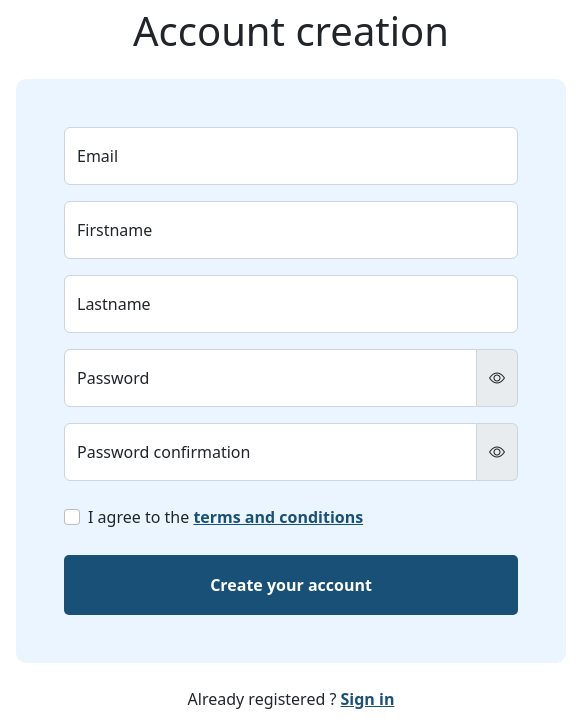
Scenario: SignUp › form › after form submission › renders a loader awaiting response
Type "vianneyaccart@gmail.com" into the field labelled "Email" at (291, 156), box [64, 127, 518, 185]
Type "Vianney" into the field labelled "Firstname" at (291, 230), box [64, 201, 518, 259]
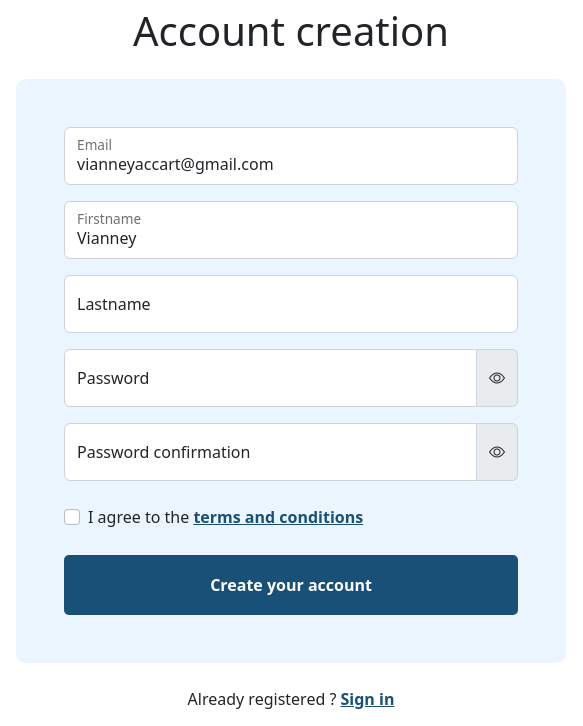
Type "Accart" into the field labelled "Lastname" at (291, 304), box [64, 275, 518, 333]
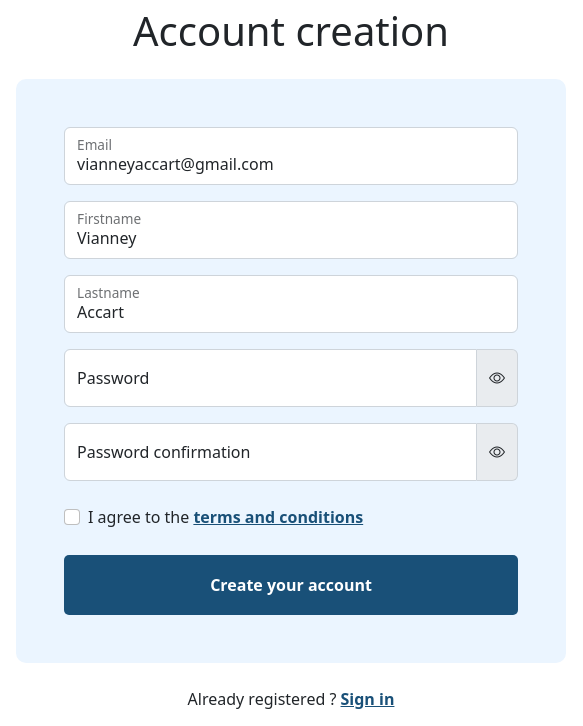
Type "Vianney69" into the password field with test id "password" at (270, 378), box [64, 349, 477, 407]
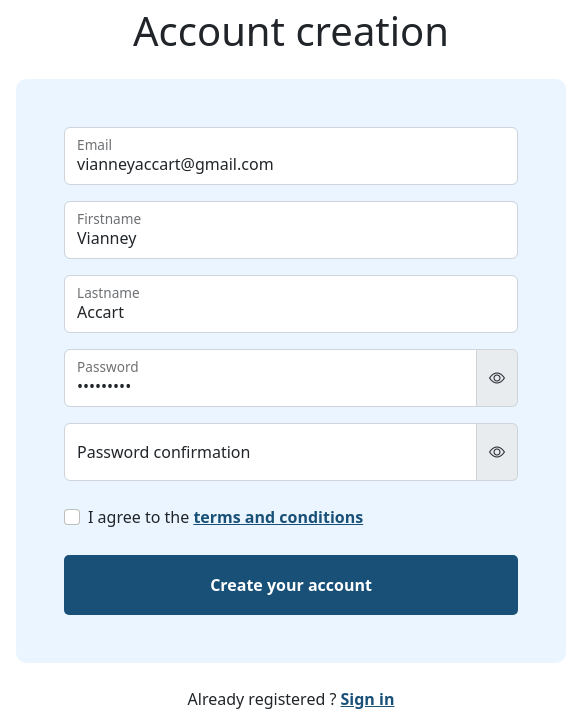
Type "Vianney69" into the password field with test id "passwordConfirmation" at (270, 452), box [64, 423, 477, 481]
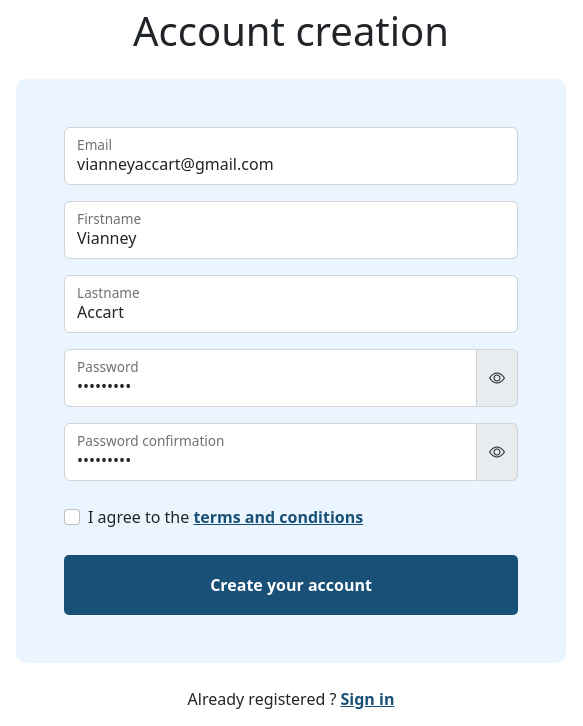
Click the checkbox labelled "I agree to the terms and conditions" at (72, 517), box [64, 509, 80, 525]
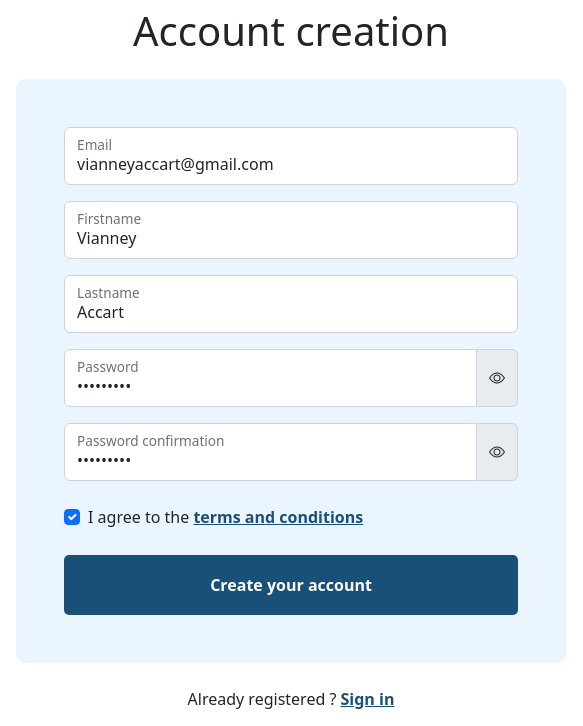
Click the button "Create your account" at (291, 585), box [64, 555, 518, 615]
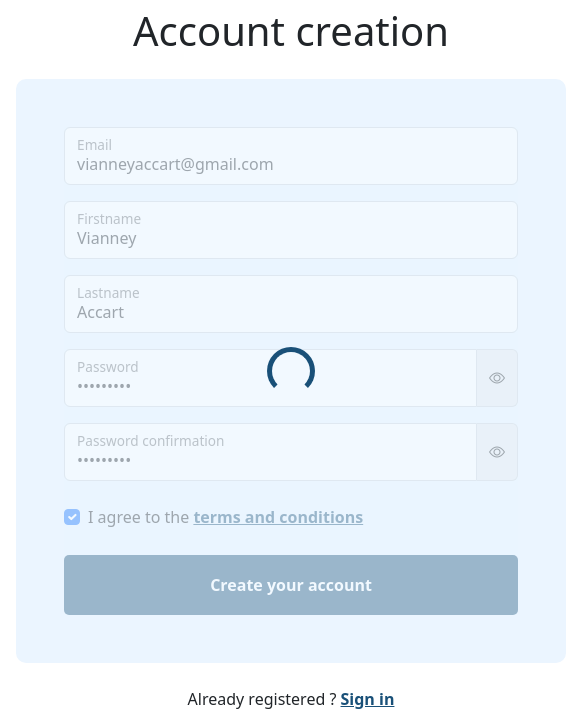
Now the message is shown, box [267, 347, 315, 395]
